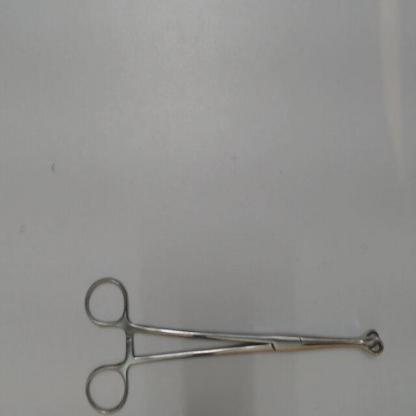8 Babcock Tissue Forceps: (78, 269, 386, 414)
